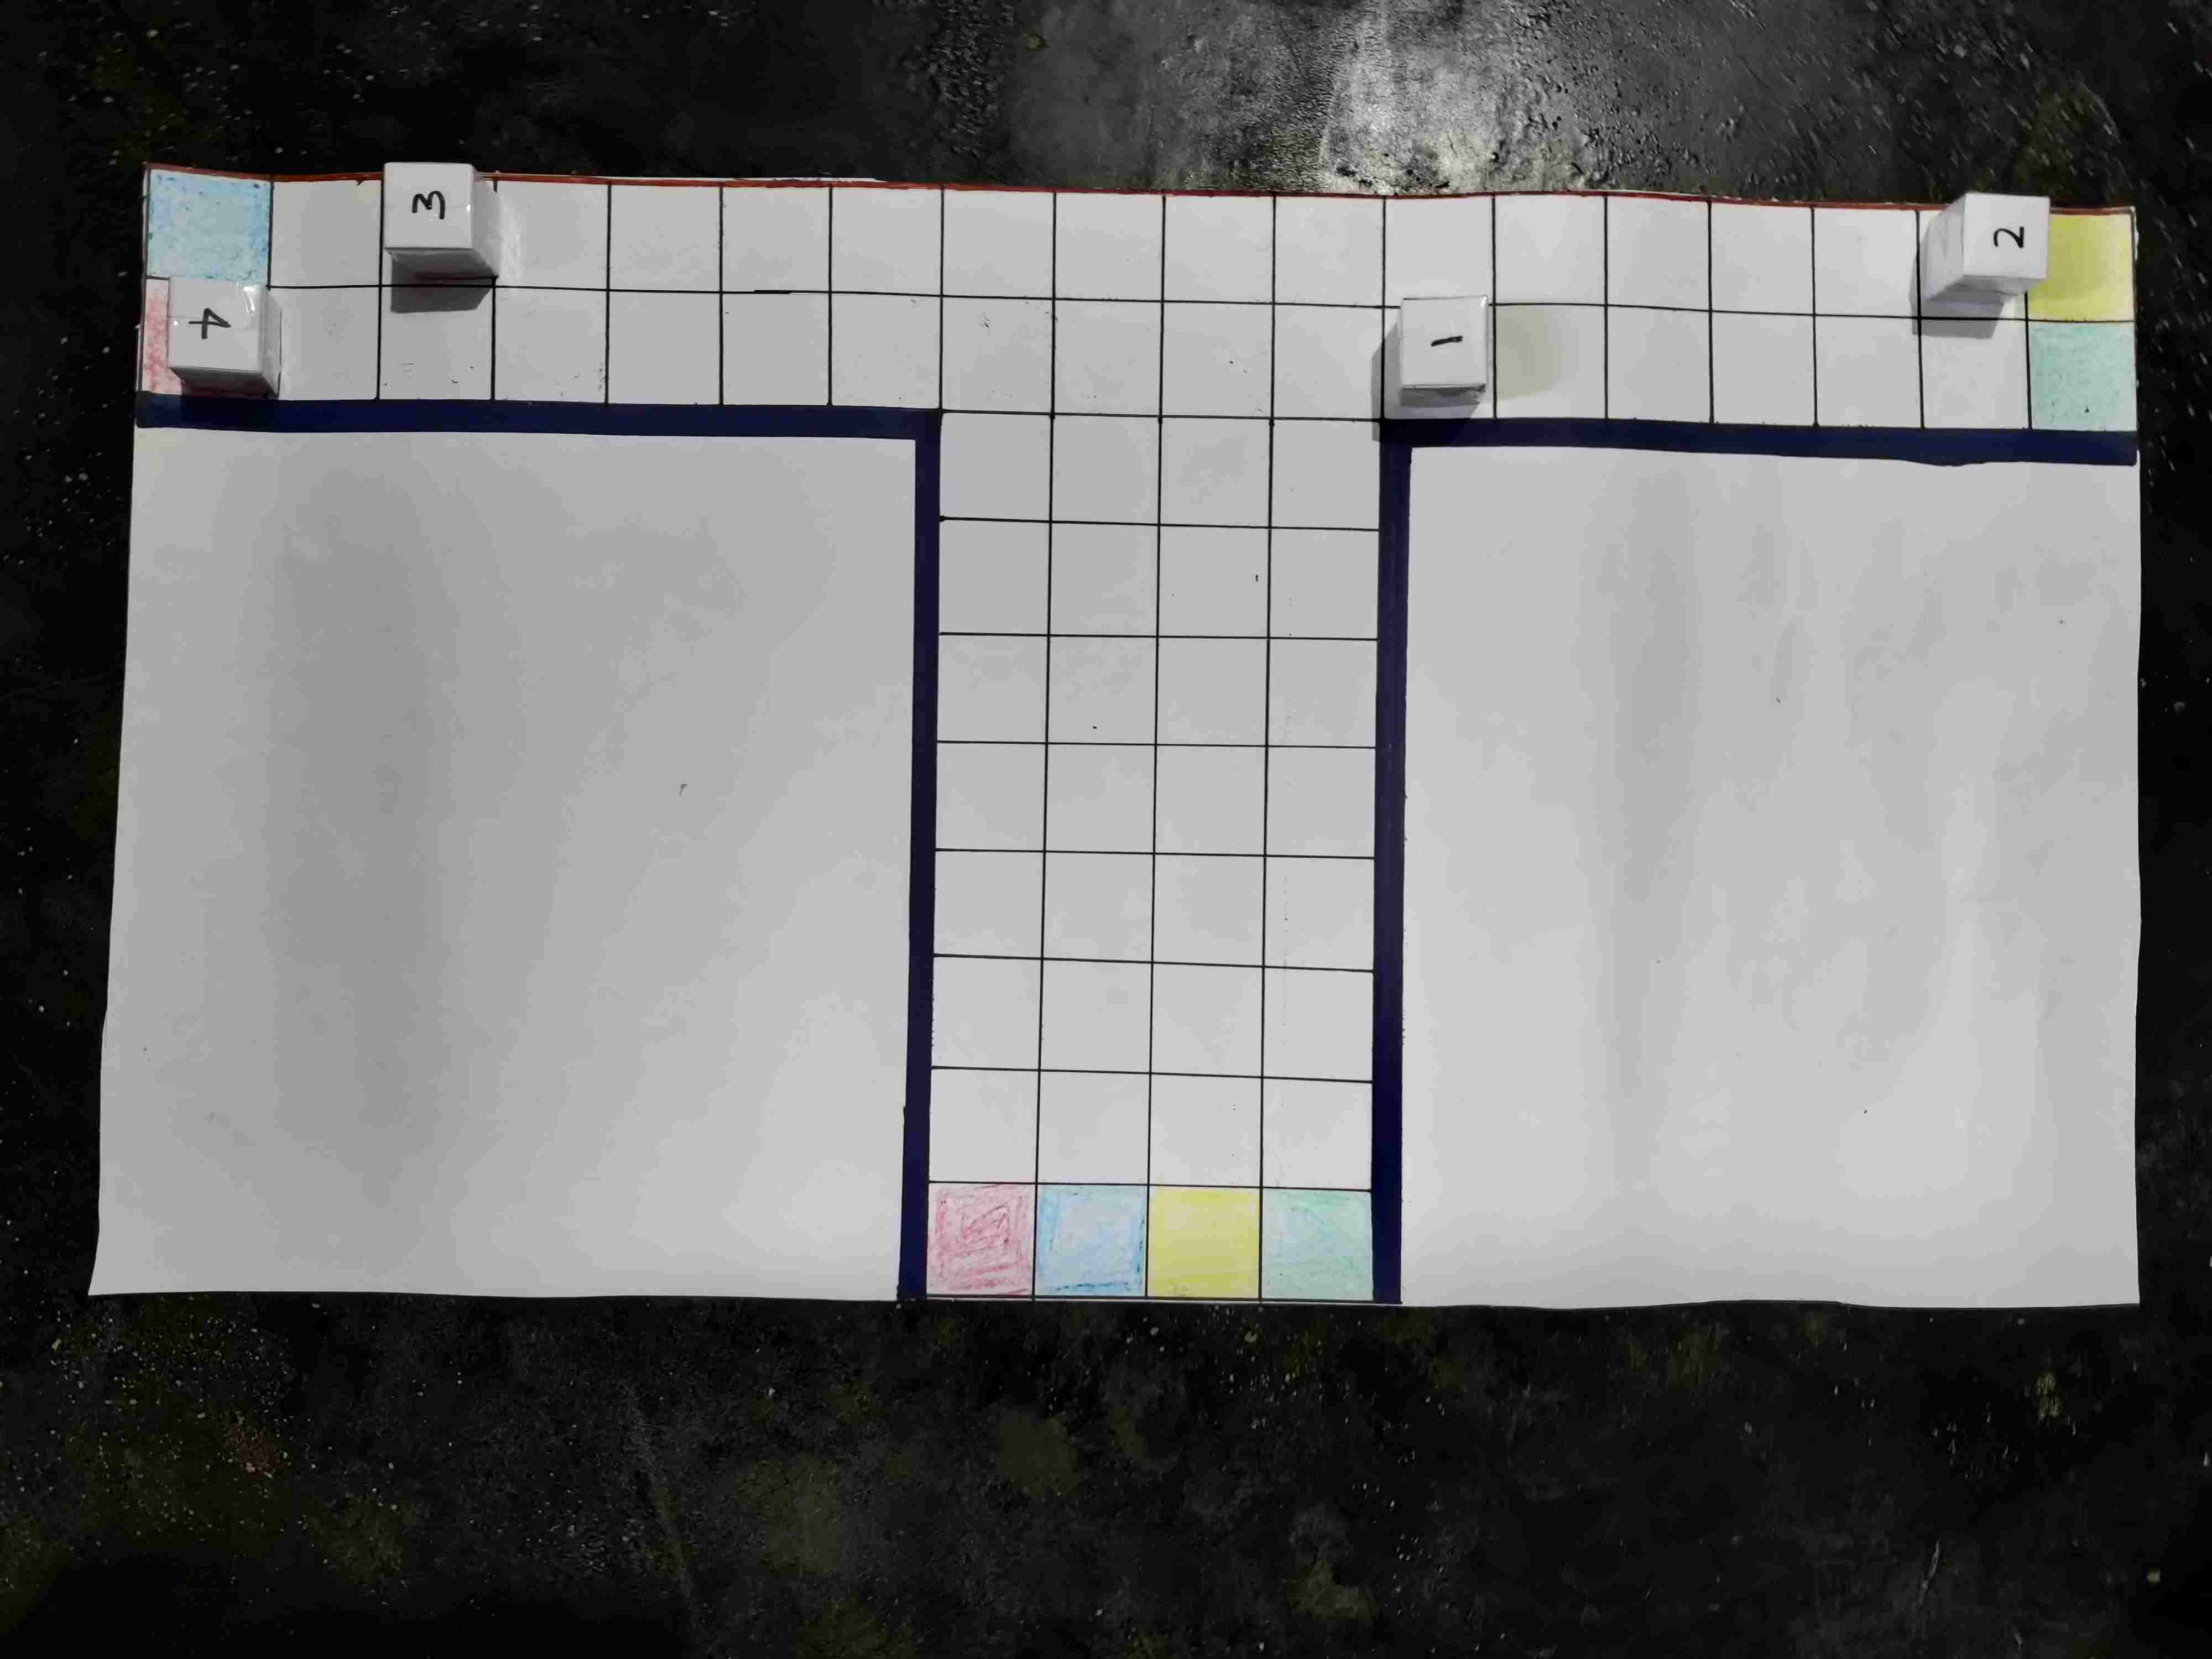arena: (127, 378, 1991, 1412)
bot: (1895, 1216, 1989, 1293), (395, 1218, 469, 1309), (503, 1328, 580, 1413), (1597, 1335, 1674, 1420)
